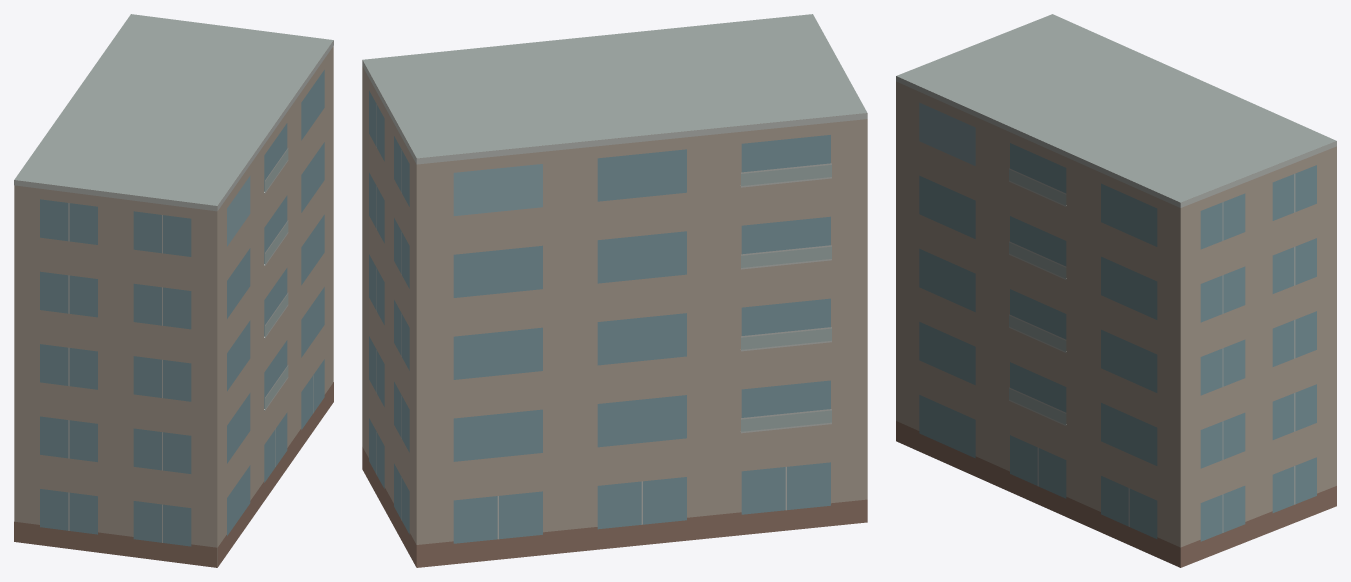
Rendered from survey-upis-32658113.glb.
The picture shows the model from 3 angles, left to right: view 1: azimuth 30°, elevation 25°; view 2: azimuth 150°, elevation 25°; view 3: azimuth 270°, elevation 25°; orthographic projection. The views are drawn at different scales.
Visible parts, largest first — view 1: survey-upis-32658113.tmp; view 2: survey-upis-32658113.tmp; view 3: survey-upis-32658113.tmp.
Boxes of the visible parts, left/top/right/bottom form: survey-upis-32658113.tmp: left=14, top=14, right=333, bottom=567; survey-upis-32658113.tmp: left=362, top=14, right=867, bottom=567; survey-upis-32658113.tmp: left=896, top=14, right=1336, bottom=567.
Bounding box in the file's own units: 18.18 × 16.4 × 17.94.
